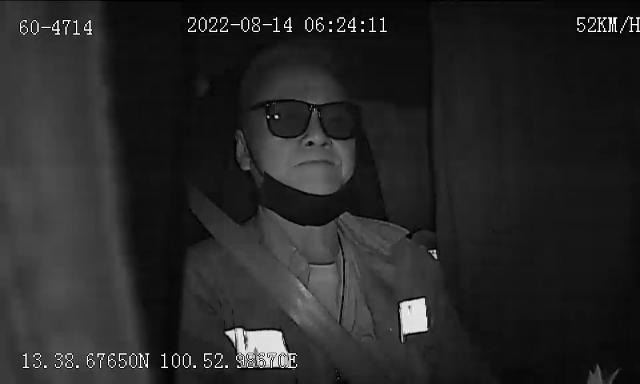Seatbelt: (186, 196, 370, 384)
